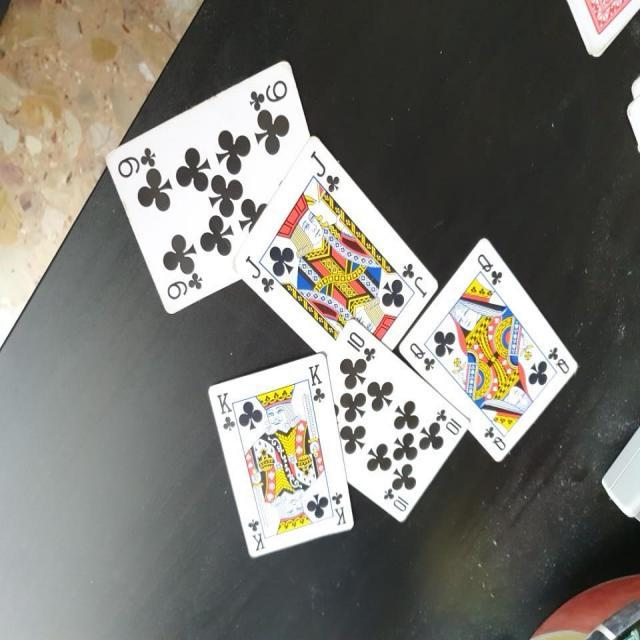10 of clubs: (322, 320, 469, 523)
9 of clubs: (104, 62, 310, 316)
jack of clubs: (228, 134, 439, 361)
king of clubs: (207, 353, 356, 560)
queen of clubs: (398, 235, 580, 462)
